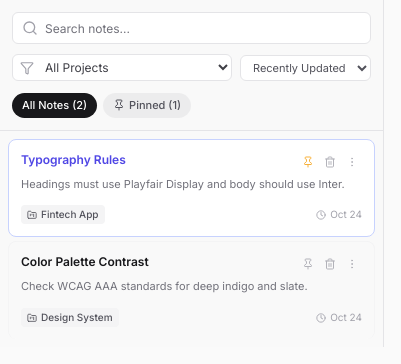
Scenario: NoteListSidebar › filters to pinned notes when clicking the Pinned tab
Click the button "Pinned (1)".
click(147, 105)  # box [103, 93, 191, 118]
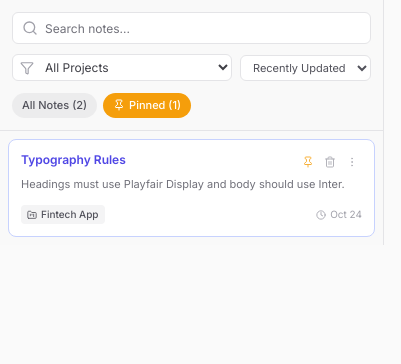
Expected: the heading "Typography Rules" is shown, [21, 152, 126, 168]
Expected: the heading "Color Palette Contrast" is gone
